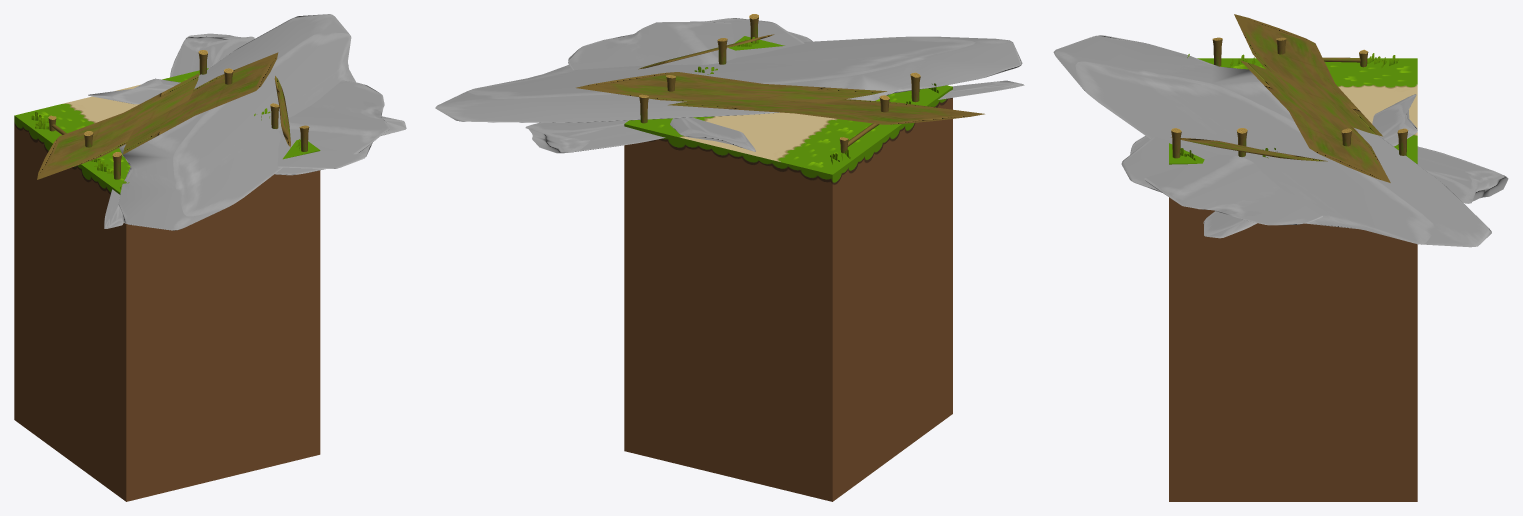
File: Plataforma 2.fbx
3 views of the same model, side by side, from view 1: azimuth 30°, elevation 25°; view 2: azimuth 150°, elevation 25°; view 3: azimuth 270°, elevation 25° (orthographic). The views are drawn at different scales.
Visible parts, largest first — view 1: Plataforma 1.002, Cube.107, Cube.130, Cylinder.074, Cylinder.080, Cube.158, Cube.129, Cube.110, Cube.157, Cylinder.075; view 2: Plataforma 1.002, Cube.107, Cube.130, Cylinder.080, Cylinder.074, Cube.158, Cube.129, Cube.110, Cube.157; view 3: Plataforma 1.002, Cube.107, Cube.130, Cylinder.074, Cylinder.080, Cube.158, Cube.110, Cube.129, Cylinder.075.
Part boxes in pixels (box(x1,y1,x2,y2)): Plataforma 1.002: box(14, 68, 320, 501); Cube.107: box(118, 14, 355, 230); Cube.130: box(275, 80, 389, 175); Cylinder.074: box(37, 73, 199, 179); Cylinder.080: box(123, 52, 278, 154); Cube.158: box(170, 33, 254, 77); Cube.129: box(277, 136, 372, 168); Cube.110: box(88, 78, 406, 135); Cube.157: box(104, 155, 123, 228); Cylinder.075: box(274, 76, 290, 147); Plataforma 1.002: box(624, 36, 952, 501); Cube.107: box(435, 36, 1022, 122); Cube.130: box(568, 21, 812, 120); Cylinder.080: box(576, 72, 886, 102); Cylinder.074: box(668, 97, 984, 124); Cube.158: box(525, 120, 665, 153); Cube.129: box(705, 18, 804, 57); Cube.110: box(670, 117, 755, 151); Cube.157: box(938, 80, 1024, 99); Plataforma 1.002: box(1169, 58, 1417, 501); Cube.107: box(1053, 35, 1491, 247); Cube.130: box(1130, 135, 1322, 225); Cylinder.074: box(1234, 14, 1382, 136); Cylinder.080: box(1240, 60, 1390, 182); Cube.158: box(1417, 146, 1508, 203); Cube.110: box(1203, 94, 1417, 238); Cube.129: box(1121, 137, 1219, 192); Cylinder.075: box(1171, 137, 1327, 161).
Size of the model in its own units: 2084 by 1620 by 1829.
